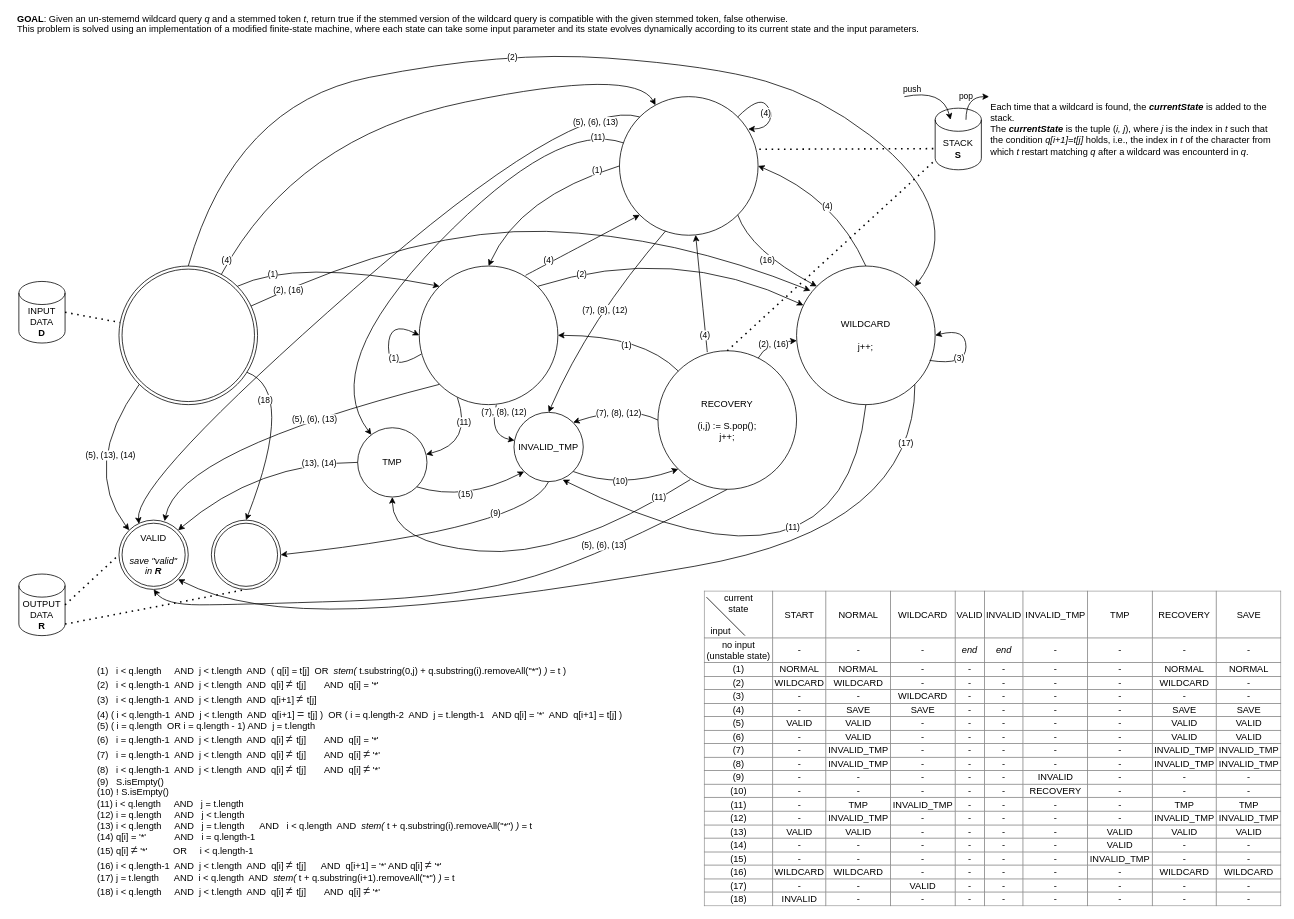
Image size: 1294x919. Some labels were removed from this diagram. Here are the shapes that lost their labels. From the top down, the centre of each, then its label:
(x=688, y=165): SAVE i++; S.push((i,j))
(x=188, y=335): START load q and t from D i=0; j=0;
(x=488, y=335): NORMAL i++; j++;
(x=246, y=554): INVALID save "invalid" in R
